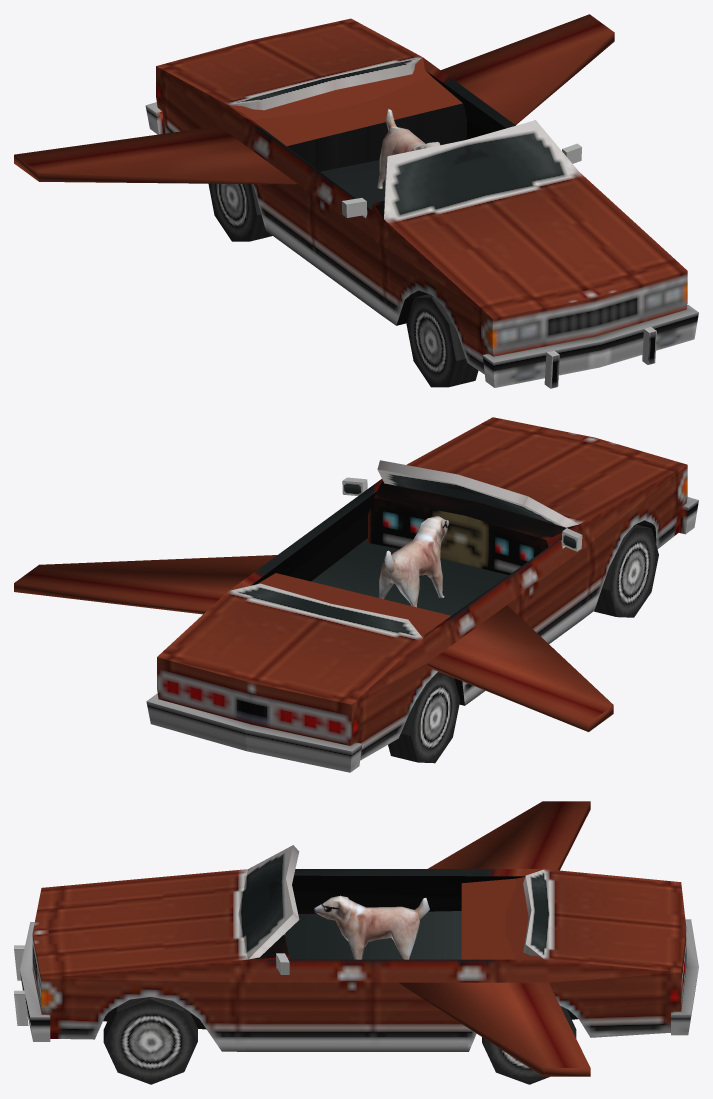
The model's file is red_car.obj.
The picture shows the model from 3 angles, top to bottom: view 1: azimuth 30°, elevation 25°; view 2: azimuth 150°, elevation 25°; view 3: azimuth 270°, elevation 25°; orthographic projection. The views are drawn at different scales.
Parts seen in each view (by area): view 1: Car5, Cube.001; view 2: Car5, Cube.001; view 3: Car5, Cube.001.
Part boxes in pixels (x1,y1,x2,y2): Car5: (14, 14, 698, 388); Cube.001: (377, 109, 440, 188); Car5: (14, 417, 698, 772); Cube.001: (379, 516, 449, 607); Car5: (14, 801, 698, 1084); Cube.001: (314, 895, 429, 959).
Bounding box in the file's own units: 6.79 × 1.91 × 7.37.
2 materials, 2 textured.
